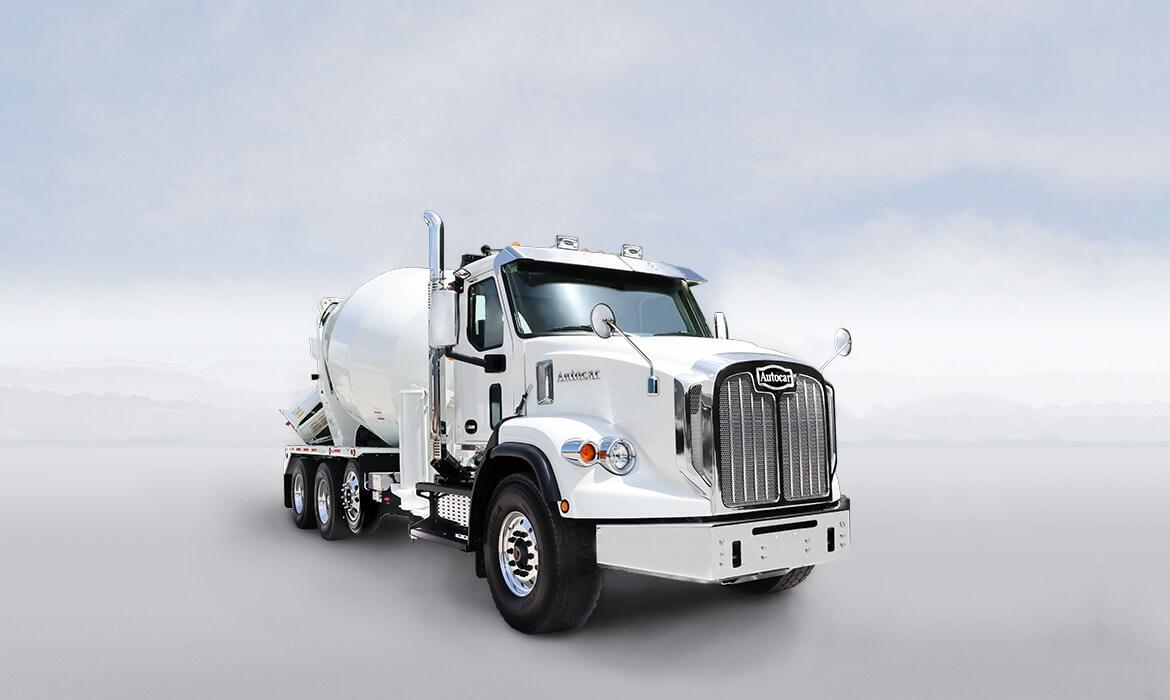truck: (280, 210, 852, 635)
